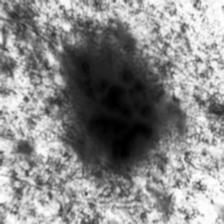Potentially Malignant Skin Tumors: (78, 61, 154, 161)
